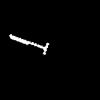half_double_crochet: (10, 35, 48, 53)
